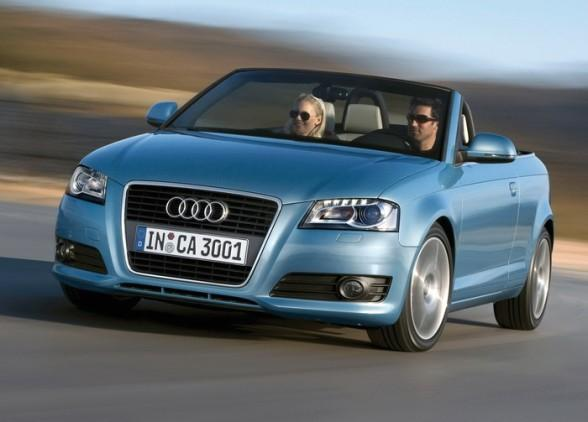Audi: (159, 187, 239, 232)
